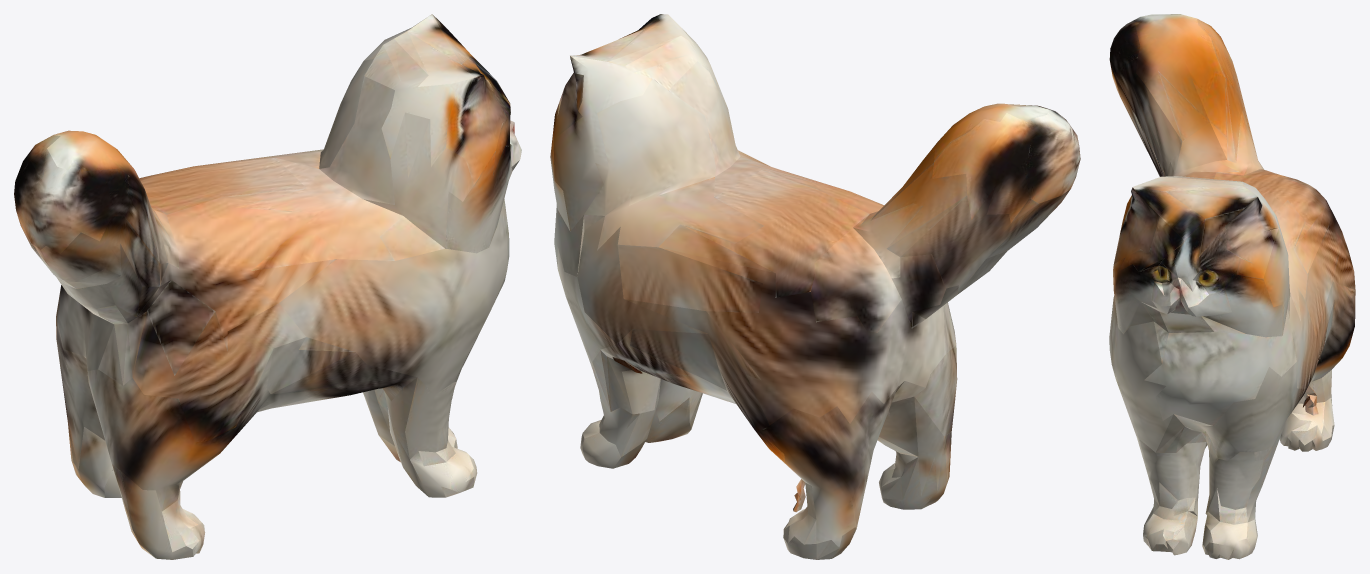
The model's file is EMPTANG-lo.glb.
The picture shows the model from 3 angles, left to right: view 1: azimuth 30°, elevation 25°; view 2: azimuth 150°, elevation 25°; view 3: azimuth 270°, elevation 25°; orthographic projection. The views are drawn at different scales.
Parts seen in each view (by area): view 1: output_unwrapped; view 2: output_unwrapped; view 3: output_unwrapped.
Boxes of the visible parts, box(x1,y1,x2,y2) form: output_unwrapped: box(14, 14, 521, 559); output_unwrapped: box(550, 14, 1080, 559); output_unwrapped: box(1109, 14, 1355, 559).
Bounding box in the file's own units: 1.21 × 1 × 0.5959.
Materials: 1 (1 with a texture image).
